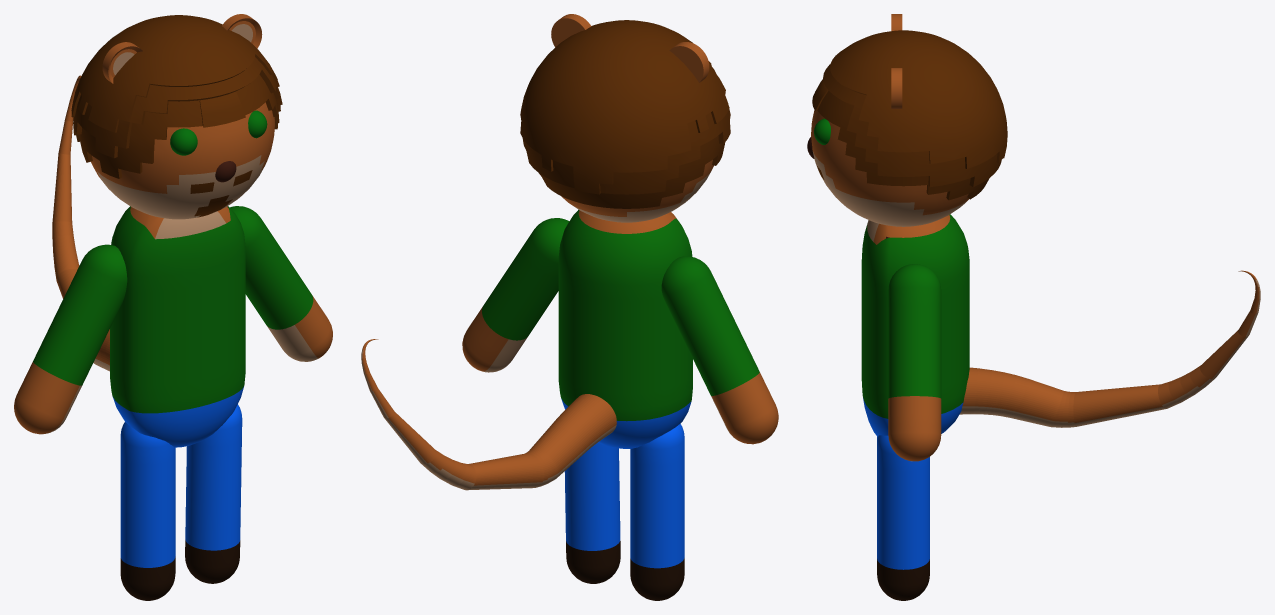
Rendered from nigig_base.fbx.
The picture shows the model from 3 angles, left to right: view 1: azimuth 30°, elevation 25°; view 2: azimuth 150°, elevation 25°; view 3: azimuth 270°, elevation 25°; orthographic projection. The views are drawn at different scales.
Visible parts, largest first — view 1: head, body, larm, lleg, rleg, rarm, tail_1, ears, eyes; view 2: head, body, larm, tail_1, lleg, rarm, rleg, ears; view 3: head, body, tail_1, rarm, rleg, ears.
Boxes of the visible parts, x1,y1,x2,y2 form: head: (71, 15, 282, 219); body: (110, 206, 245, 447); larm: (14, 244, 127, 434); lleg: (120, 422, 175, 600); rleg: (185, 404, 242, 583); rarm: (229, 206, 332, 361); tail_1: (52, 75, 109, 371); ears: (102, 14, 262, 83); eyes: (170, 110, 267, 155); head: (520, 20, 730, 222); body: (558, 209, 692, 448); larm: (661, 256, 778, 444); tail_1: (361, 339, 616, 490); lleg: (630, 424, 684, 600); rarm: (462, 218, 569, 372); rleg: (564, 442, 620, 583); ears: (551, 14, 709, 82); head: (811, 30, 1007, 226); body: (861, 214, 969, 436); tail_1: (959, 270, 1260, 427); rarm: (888, 264, 941, 461); rleg: (877, 435, 929, 600); ears: (891, 14, 902, 108).
Size of the model in its own units: 262 by 454 by 343.
